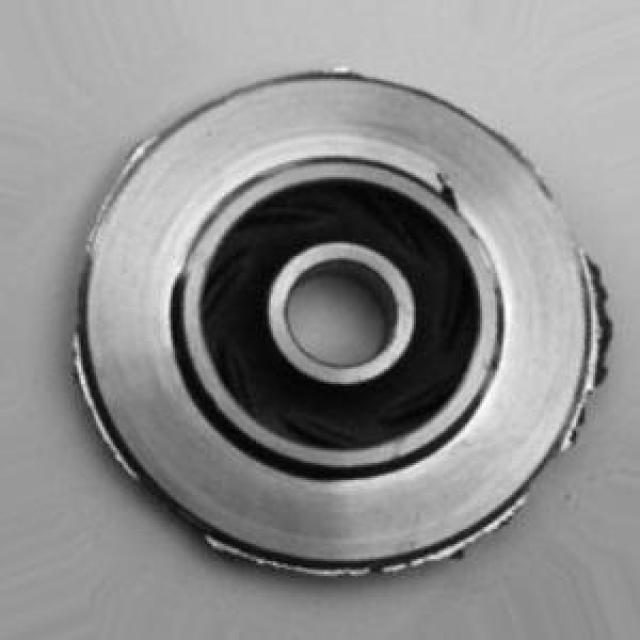Defect: (577, 247, 634, 359), (433, 160, 462, 207)
